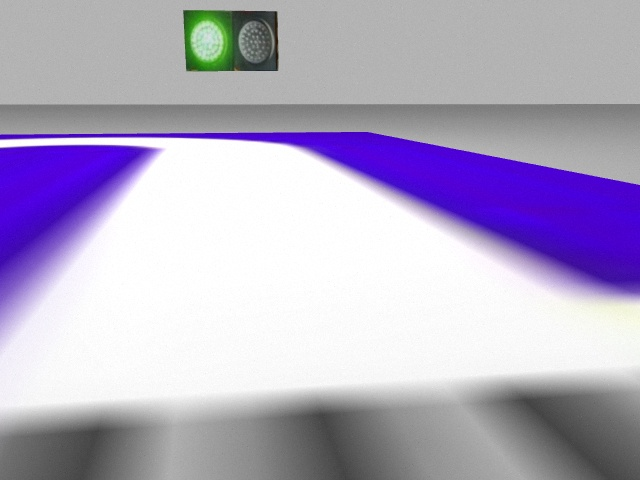green: (181, 9, 234, 70)
